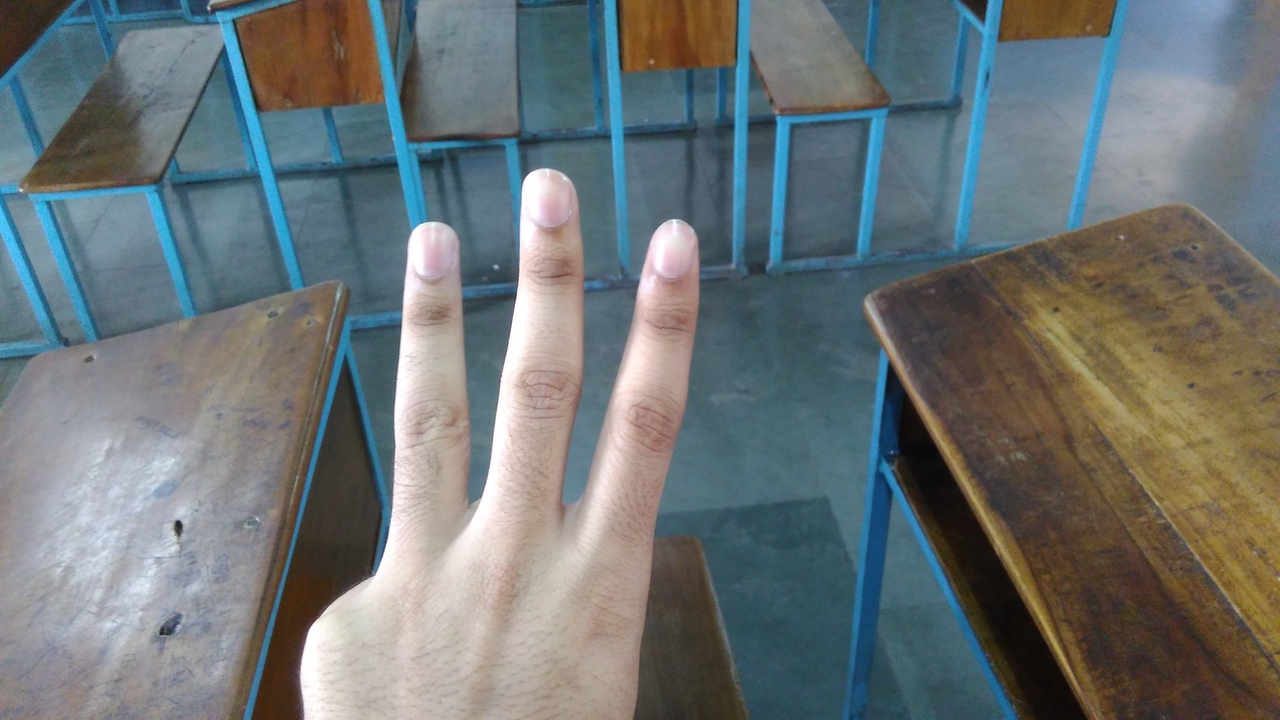fingertip: (508, 162, 584, 232), (636, 212, 706, 282), (392, 216, 462, 286)
